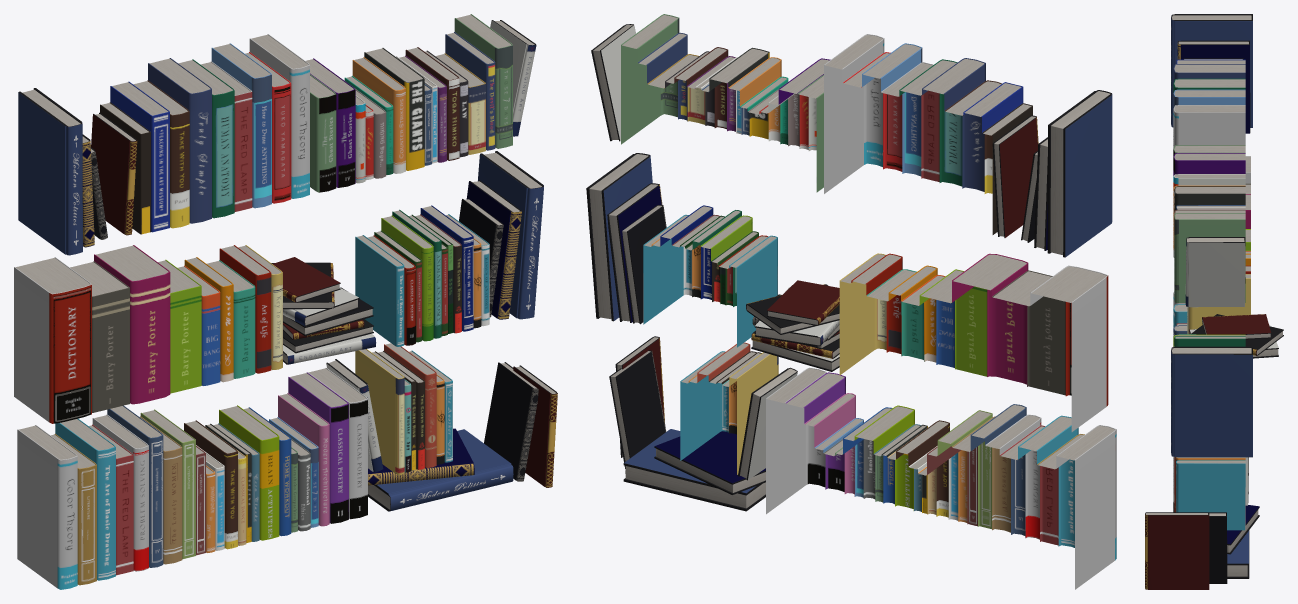
Rendered from Books.fbx.
The picture shows the model from 3 angles, left to right: view 1: azimuth 30°, elevation 25°; view 2: azimuth 150°, elevation 25°; view 3: azimuth 270°, elevation 25°; orthographic projection. The views are drawn at different scales.
Visible parts, largest first — view 1: Set_1, Set_2, Set_3, Set_4, Set_5, Set_6, Book_5, Book_19, Book_14, Book_13, Book_8, Book_17 (+13 smaller); view 2: Set_1, Set_2, Set_3, Set_4, Set_5, Book_5, Set_6, Book_19, Book_14, Book_8, Book_13, Book_12 (+12 smaller); view 3: Book_19, Set_4, Set_3, Book_15, Set_6, Book_20, Book_5, Book_6, Set_2, Book_11, Book_14, Set_5 (+5 smaller).
Part boxes in pixels (x1,y1,x2,y2): Set_1: [17, 367, 367, 589]; Set_2: [14, 245, 282, 423]; Set_3: [100, 34, 309, 234]; Set_4: [306, 14, 512, 192]; Set_5: [355, 205, 489, 346]; Set_6: [355, 343, 452, 475]; Book_5: [18, 88, 82, 255]; Book_19: [478, 151, 543, 319]; Book_14: [484, 362, 538, 481]; Book_13: [368, 429, 513, 511]; Book_8: [91, 112, 137, 235]; Book_17: [466, 180, 521, 319]; Set_1: [766, 367, 1116, 589]; Set_2: [839, 253, 1108, 431]; Set_3: [824, 34, 1032, 234]; Set_4: [621, 14, 830, 192]; Set_5: [643, 205, 777, 347]; Book_5: [1047, 90, 1112, 257]; Set_6: [680, 342, 778, 474]; Book_19: [586, 153, 652, 321]; Book_14: [609, 350, 666, 468]; Book_8: [992, 115, 1038, 237]; Book_13: [623, 429, 765, 511]; Book_12: [654, 431, 765, 494]; Book_19: [1171, 346, 1252, 457]; Set_4: [1173, 145, 1245, 302]; Set_3: [1173, 59, 1245, 148]; Book_15: [1145, 512, 1209, 589]; Set_6: [1174, 457, 1245, 530]; Book_20: [1185, 237, 1245, 307]; Book_5: [1171, 14, 1252, 127]; Book_6: [1177, 40, 1250, 133]; Set_2: [1187, 156, 1250, 334]; Book_11: [1202, 314, 1271, 339]; Book_14: [1209, 512, 1227, 583]; Set_5: [1173, 334, 1245, 346].
Size of the model in its own units: 111 by 102 by 33.14.
Materials: 2 (2 with a texture image).
